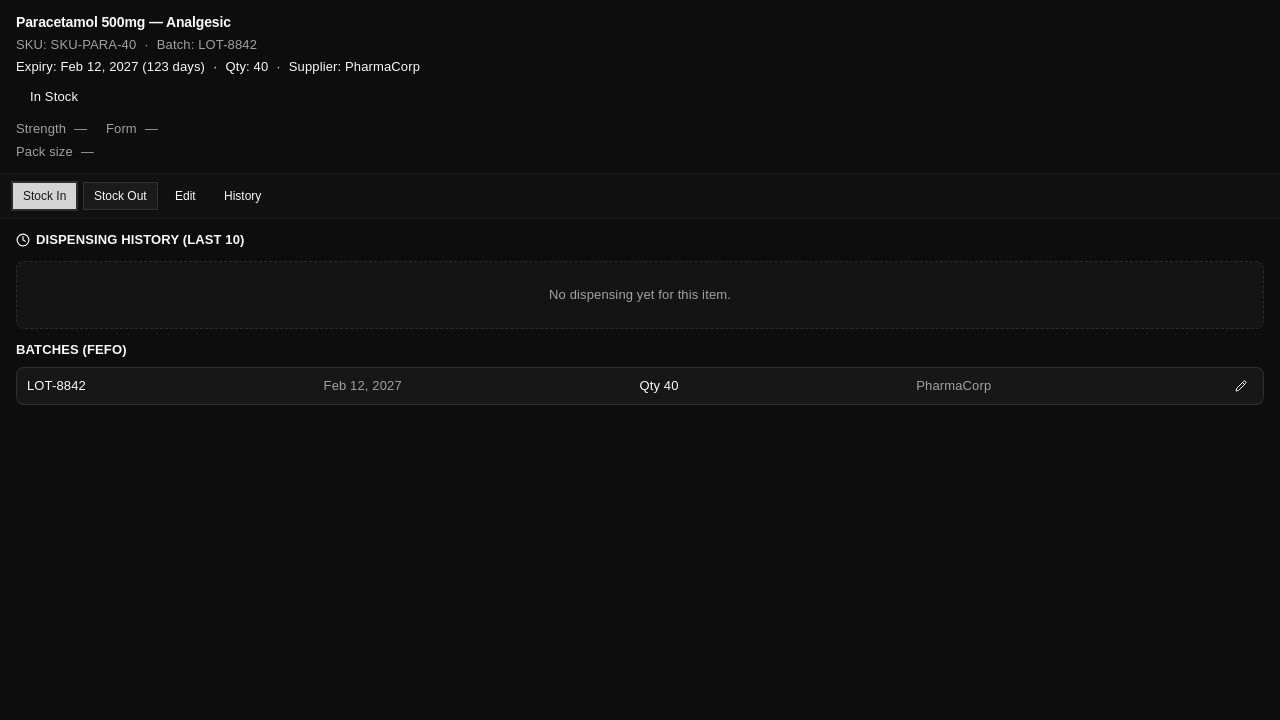
Test: InventoryDetailContent › opens the batch edit modal from a batch row's edit affordance
Step 1. Click the button named "Edit batch LOT-8842" → (1241, 386), box [1229,374,1253,398]
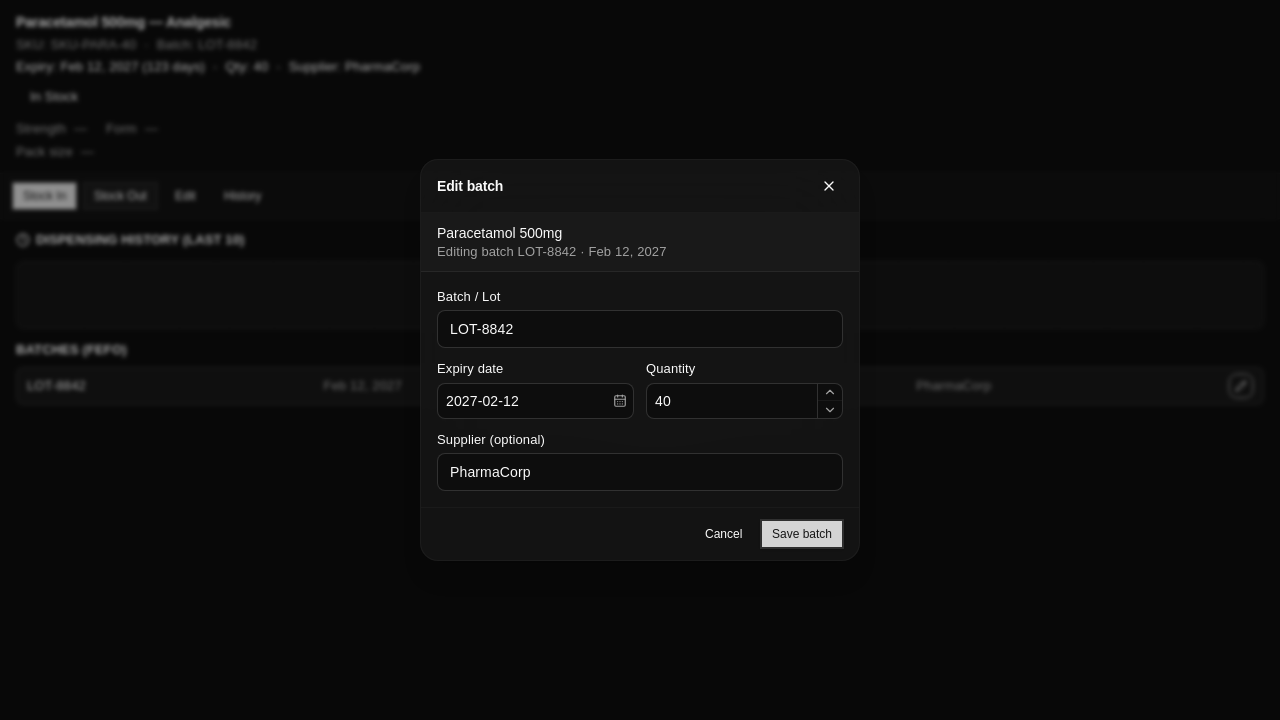
Expected: the dialog "Edit batch" is shown, [420,159,860,561]
Expected: the field showing "LOT-8842" is shown, [437,310,843,348]
